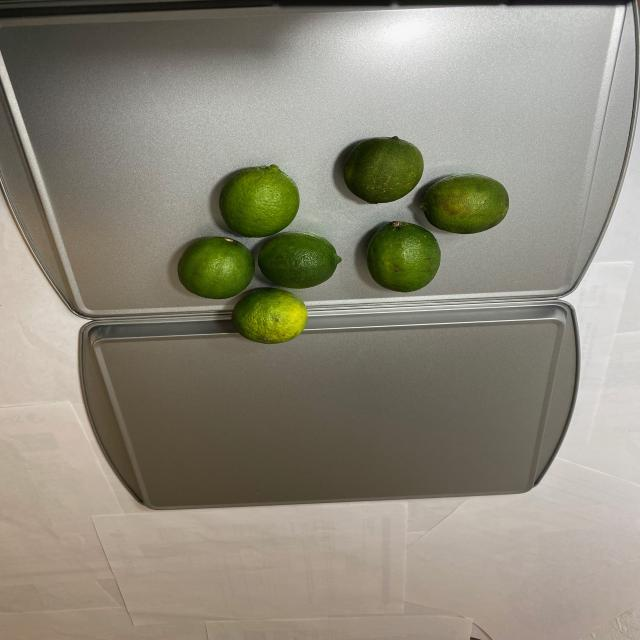lemon: (180, 138, 513, 345)
